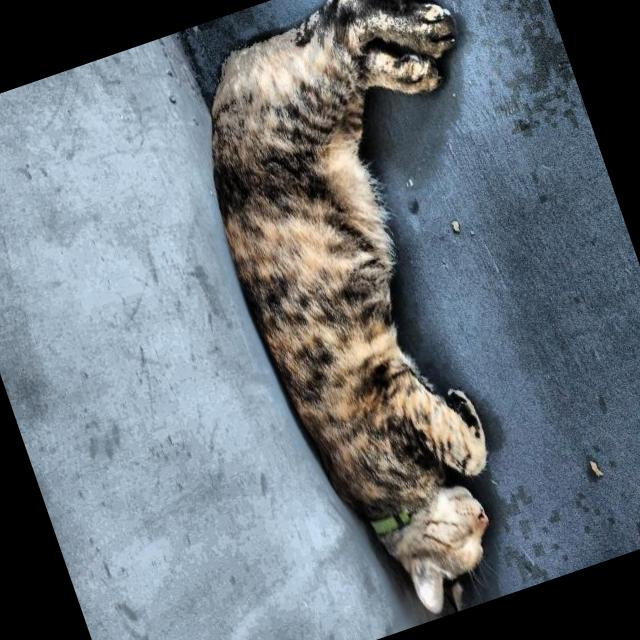Healthy skin: (213, 103, 410, 422)
